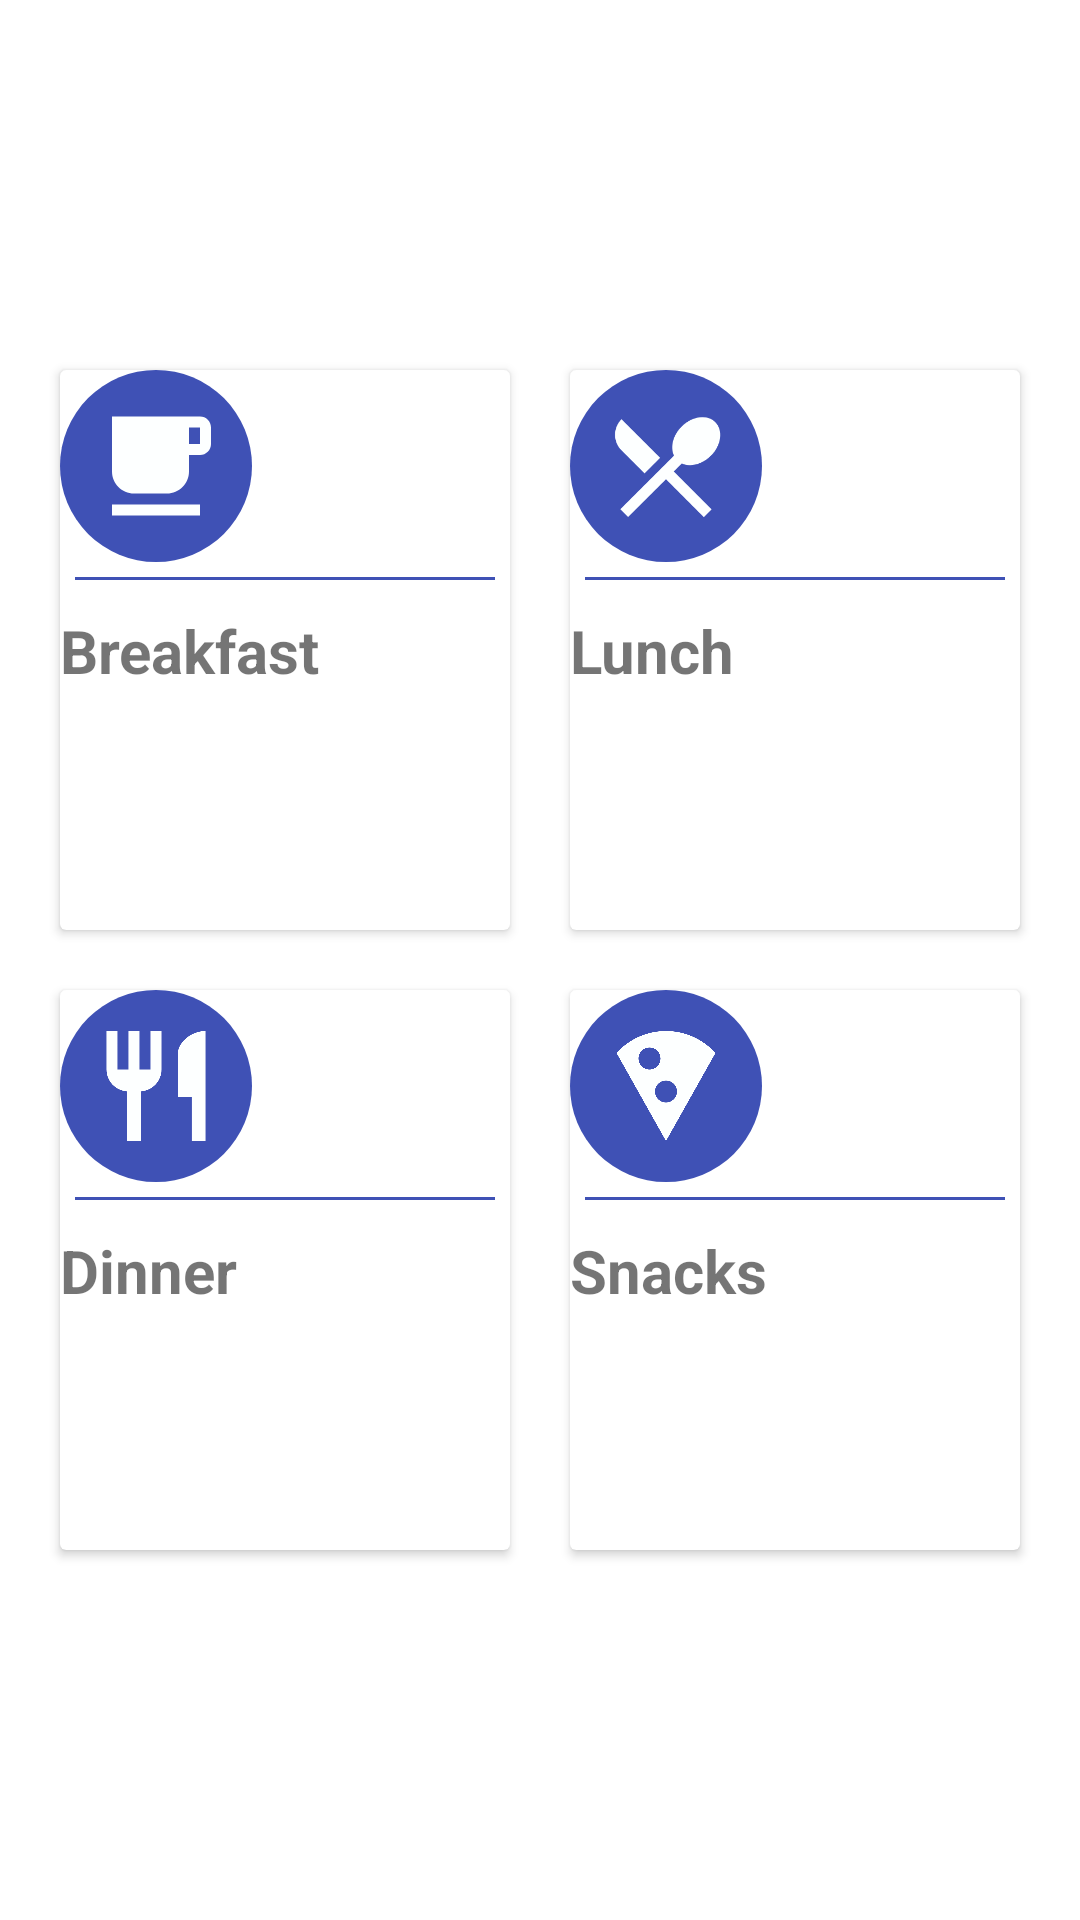

Where icons sit on this 1080 x 1920 app screen, as detection(x1, y1, x2, y2):
local pizza: detection(570, 990, 762, 1182)
restaurant: detection(60, 990, 252, 1182)
restaurant menu: detection(570, 370, 762, 562)
